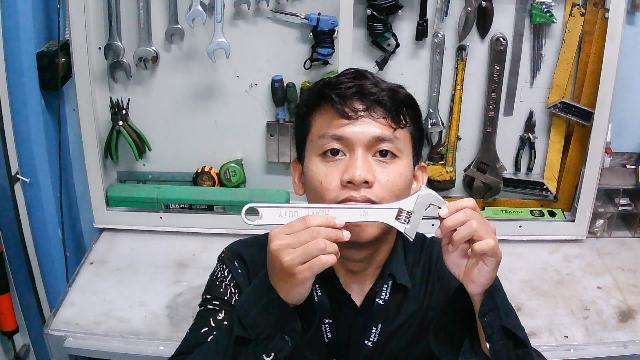kunci_inggris: (235, 188, 452, 241)
